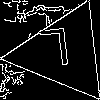L: (38, 28, 73, 77)
